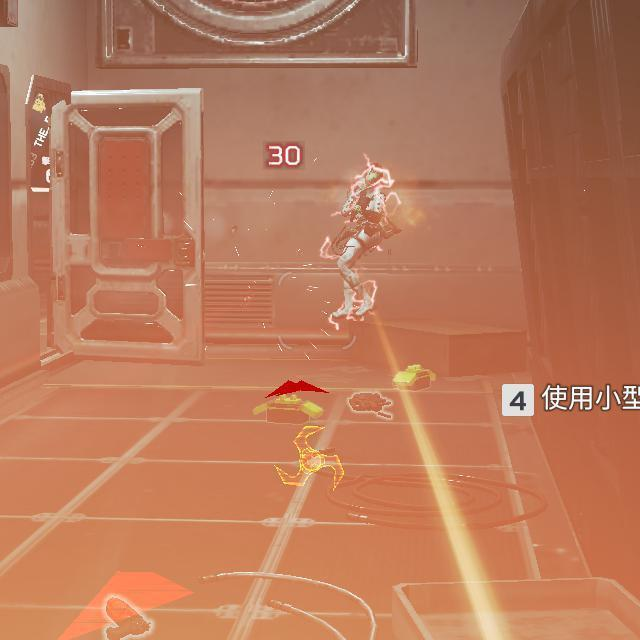avatar: (324, 165, 400, 321)
